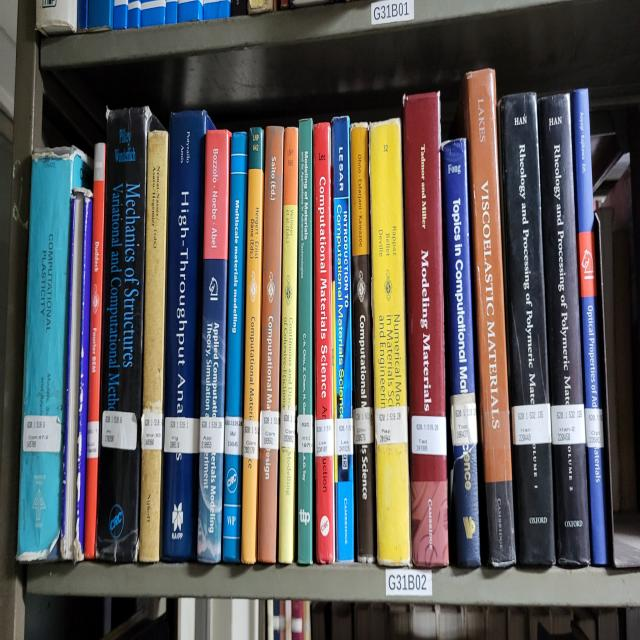Book: (18, 146, 92, 560), (96, 108, 160, 563), (459, 68, 516, 568), (499, 92, 555, 565), (538, 95, 590, 565), (161, 111, 214, 563), (404, 92, 449, 568), (370, 119, 410, 565), (571, 89, 608, 565), (441, 138, 480, 565), (198, 130, 230, 563), (139, 130, 169, 563), (258, 127, 284, 563), (222, 133, 248, 563), (351, 124, 375, 563), (331, 116, 354, 563), (241, 127, 264, 563), (314, 122, 335, 563), (84, 143, 106, 560), (279, 127, 299, 563), (298, 119, 314, 565)
Label: (511, 403, 551, 446), (22, 414, 61, 452), (101, 409, 138, 449), (451, 392, 478, 446), (551, 403, 586, 444), (411, 417, 446, 455), (164, 417, 199, 455), (375, 406, 408, 444), (482, 411, 510, 449), (200, 417, 224, 455), (141, 409, 162, 449), (585, 409, 604, 449), (354, 406, 374, 444), (335, 417, 354, 455), (315, 419, 334, 457), (260, 411, 279, 449), (242, 419, 259, 460), (224, 417, 242, 455), (280, 406, 295, 449), (298, 414, 312, 455), (86, 422, 99, 457)
